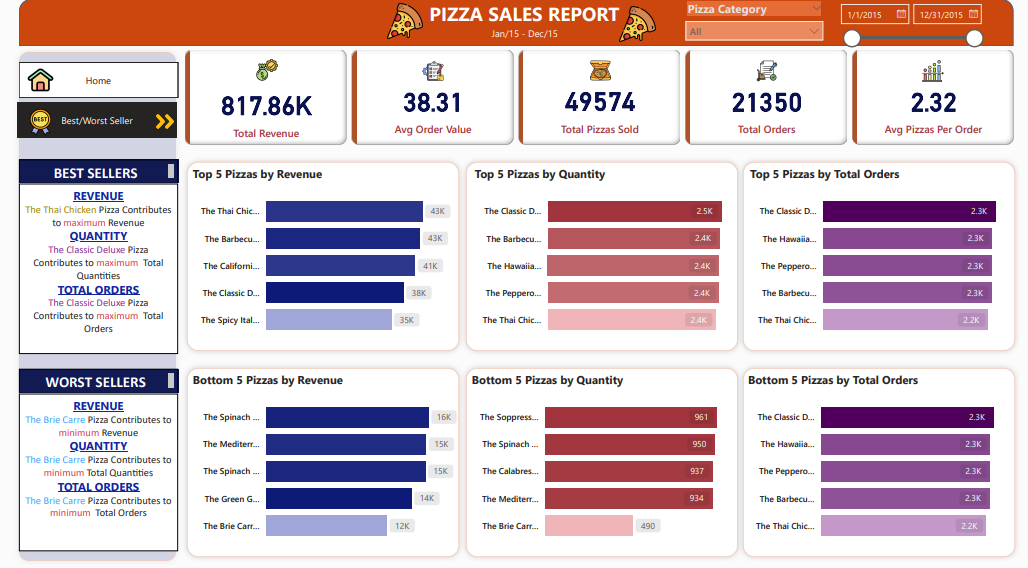

The page's visual inventory and layout, read from the dashboard file:
{"tool":"powerbi","page":{"name":"Best/Worst Seller","canvas":[1500,820],"ordinal":1},"visuals":[{"type":"shape","box":[62.3,69.8,235.8,732.1],"z":0},{"type":"cardVisual","fields":{"Data":["pizzadb pizza_sales.Total Revenue","pizzadb pizza_sales.Avg Order Value","pizzadb pizza_sales.Total Pizzas Sold","pizzadb pizza_sales.Total Orders","pizzadb pizza_sales.Avg Pizzas Per Order"]},"box":[298.2,70.2,1177.2,143.9],"z":1000},{"type":"slicer","fields":{"Values":["pizzadb pizza_sales.order_date"]},"box":[1213.9,0,221.7,91.7],"z":2000,"group":"g1"},{"type":"shape","box":[68.6,2.9,1401.4,65.7],"z":2000},{"type":"textbox","box":[68.7,228.6,224,34.9],"z":3000},{"type":"textbox","box":[68.6,524.3,224.3,34.3],"z":4000},{"type":"textbox","box":[725,38.3,113.3,31.7],"z":5000},{"type":"shape","box":[298.1,224.5,398.1,281.1],"z":6000},{"type":"textbox","box":[68.6,262.9,224.3,240],"z":7000},{"type":"textbox","box":[68.6,558.6,224.3,222.9],"z":8000},{"type":"slicer","fields":{"Values":["pizzadb pizza_sales.pizza_category"]},"box":[998.3,0.6,213.3,66.7],"z":9000},{"type":"textbox","box":[626.7,0,308.3,46.7],"z":10000},{"type":"image","box":[583.3,0,60,68.3],"z":11000},{"type":"image","box":[910,3.3,60,68.3],"z":12000},{"type":"group","id":"g1","title":"Group 6","box":[1213.9,0,221.7,91.7],"z":13000},{"type":"shape","box":[690.6,224.5,398.1,281.1],"z":14000},{"type":"shape","box":[1081.1,224.5,398.1,281.1],"z":15000},{"type":"shape","box":[298.1,515.1,398.1,281.1],"z":16000},{"type":"shape","box":[690.6,515.1,398.1,281.1],"z":17000},{"type":"shape","box":[1081.1,515.1,398.1,281.1],"z":18000},{"type":"barChart","title":"Top 5 Pizzas by Revenue","fields":{"Category":["pizzadb pizza_sales.pizza_name"],"Y":["pizzadb pizza_sales.Total Revenue"]},"box":[309.4,237.7,381.1,252.8],"z":19000},{"type":"barChart","title":"Bottom 5 Pizzas by Revenue","fields":{"Category":["pizzadb pizza_sales.pizza_name"],"Y":["pizzadb pizza_sales.Total Revenue"]},"box":[309.4,528.3,381.1,252.8],"z":20000},{"type":"barChart","title":"Top 5 Pizzas by Quantity","fields":{"Category":["pizzadb pizza_sales.pizza_name"],"Y":["pizzadb pizza_sales.Total Pizzas Sold"]},"box":[705.7,237.7,381.1,252.8],"z":21000},{"type":"barChart","title":"Bottom 5 Pizzas by Quantity","fields":{"Category":["pizzadb pizza_sales.pizza_name"],"Y":["pizzadb pizza_sales.Total Pizzas Sold"]},"box":[701.9,528.3,381.1,252.8],"z":22000},{"type":"barChart","title":"Top  5 Pizzas by Total Orders","fields":{"Category":["pizzadb pizza_sales.pizza_name"],"Y":["pizzadb pizza_sales.Total Orders"]},"box":[1094.3,237.7,381.1,252.8],"z":23000},{"type":"barChart","title":"Bottom 5 Pizzas by Total Orders","fields":{"Category":["pizzadb pizza_sales.pizza_name"],"Y":["pizzadb pizza_sales.Total Orders"]},"box":[1090.6,528.3,381.1,252.8],"z":24000},{"type":"pageNavigator","box":[68.6,91.9,224.4,50],"z":25000},{"type":"pageNavigator","box":[67.4,147.7,224.4,50],"z":26000},{"type":"image","box":[76.1,78.4,45.5,76.1],"z":27000},{"type":"image","box":[76.1,136.4,45.5,78.4],"z":28000},{"type":"image","box":[256.8,142,35.2,65.9],"z":29000}]}

Visuals, with their boxes in screenshot pixels (x1, y1, x2, y2), scaled from the page's 1500x820 canvas onto the 1028x568 screenshot:
shape: <region>43, 48, 204, 555</region>
cardVisual - pizzadb pizza_sales.Total Revenue x pizzadb pizza_sales.Avg Order Value: <region>204, 49, 1011, 148</region>
slicer - pizzadb pizza_sales.order_date: <region>832, 0, 984, 64</region>
shape: <region>47, 2, 1007, 48</region>
textbox: <region>47, 158, 201, 183</region>
textbox: <region>47, 363, 201, 387</region>
textbox: <region>497, 27, 575, 48</region>
shape: <region>204, 156, 477, 350</region>
textbox: <region>47, 182, 201, 348</region>
textbox: <region>47, 387, 201, 541</region>
slicer - pizzadb pizza_sales.pizza_category: <region>684, 0, 830, 47</region>
textbox: <region>429, 0, 641, 32</region>
image: <region>400, 0, 441, 47</region>
image: <region>624, 2, 665, 50</region>
"Group 6" group: <region>832, 0, 984, 64</region>
shape: <region>473, 156, 746, 350</region>
shape: <region>741, 156, 1014, 350</region>
shape: <region>204, 357, 477, 552</region>
shape: <region>473, 357, 746, 552</region>
shape: <region>741, 357, 1014, 552</region>
"Top 5 Pizzas by Revenue" barChart: <region>212, 165, 473, 340</region>
"Bottom 5 Pizzas by Revenue" barChart: <region>212, 366, 473, 541</region>
"Top 5 Pizzas by Quantity" barChart: <region>484, 165, 745, 340</region>
"Bottom 5 Pizzas by Quantity" barChart: <region>481, 366, 742, 541</region>
"Top  5 Pizzas by Total Orders" barChart: <region>750, 165, 1011, 340</region>
"Bottom 5 Pizzas by Total Orders" barChart: <region>747, 366, 1009, 541</region>
pageNavigator: <region>47, 64, 201, 98</region>
pageNavigator: <region>46, 102, 200, 137</region>
image: <region>52, 54, 83, 107</region>
image: <region>52, 94, 83, 149</region>
image: <region>176, 98, 200, 144</region>
